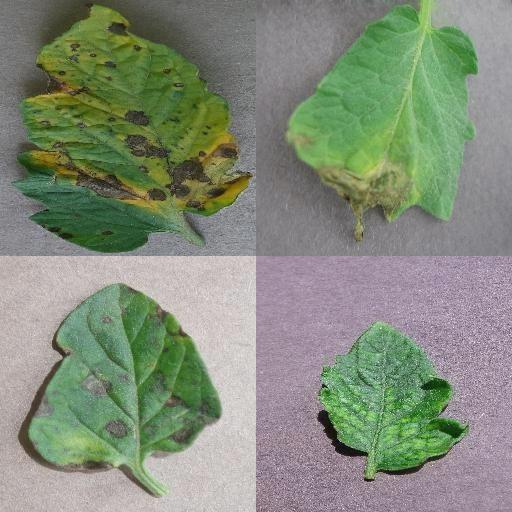Early Blight: (16, 5, 254, 253), (30, 279, 221, 475)
Late Blight: (281, 4, 479, 238)
Mosaic Virus: (318, 319, 468, 473)
